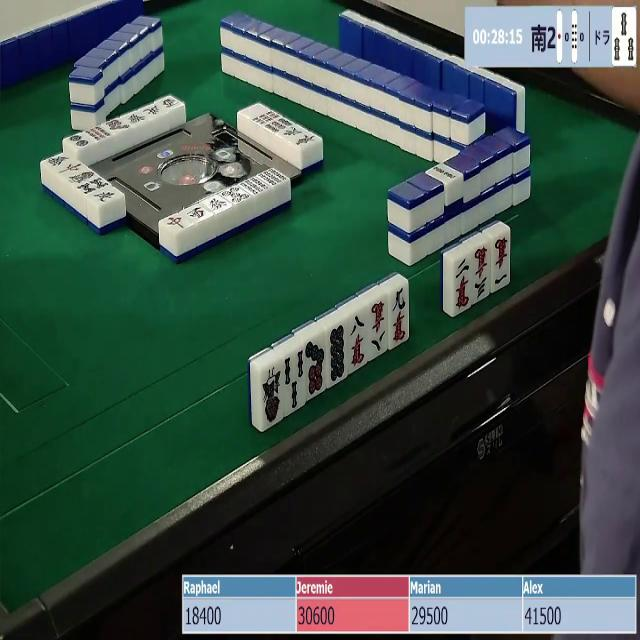m1: (491, 235, 510, 293)
m2: (451, 257, 472, 315)
m3: (471, 245, 490, 302)
m8: (346, 313, 370, 371), (368, 299, 390, 357)
m9: (389, 286, 408, 348)
s1: (261, 366, 285, 430)
s2: (434, 160, 456, 182)
s3: (281, 351, 304, 414), (615, 10, 637, 66)
t7: (303, 337, 327, 399)
t8: (326, 323, 348, 385)
